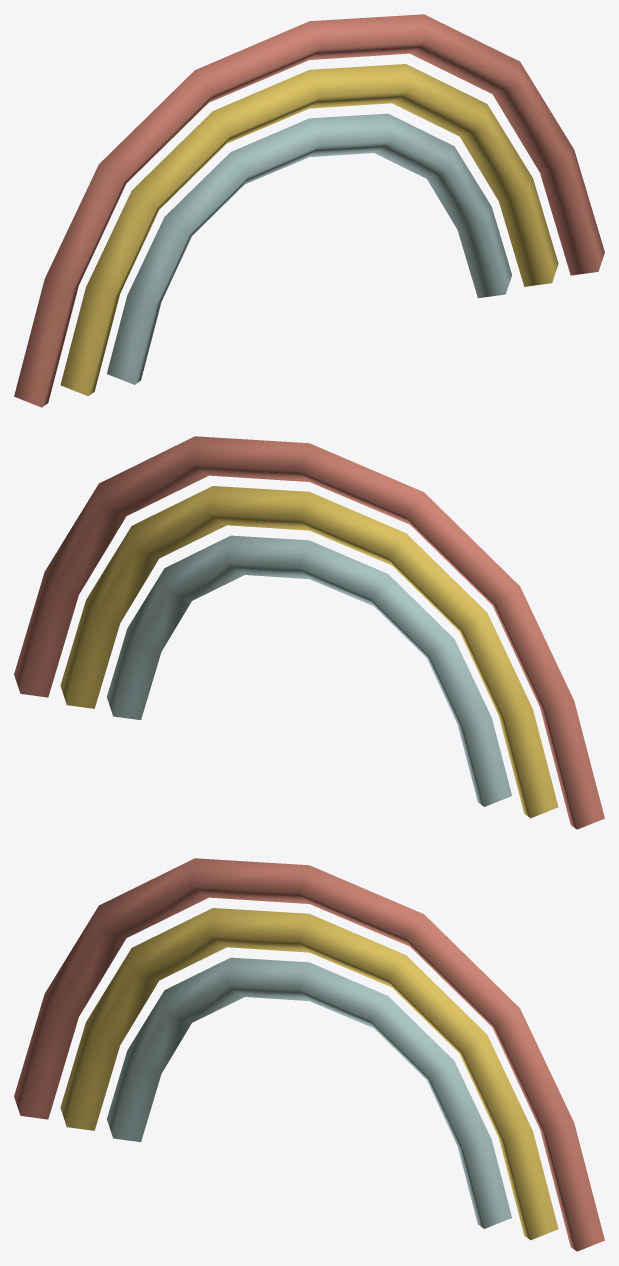
Rendered from rainbow.glb.
3 views of the same model, one above another, from view 1: azimuth 30°, elevation 25°; view 2: azimuth 150°, elevation 25°; view 3: azimuth 330°, elevation 25° (orthographic).
Visible parts, largest first — view 1: rainbow; view 2: rainbow; view 3: rainbow.
Boxes of the visible parts, x1=… form: rainbow: x1=14, y1=14, x2=604, y2=407; rainbow: x1=14, y1=436, x2=604, y2=829; rainbow: x1=14, y1=858, x2=604, y2=1251.
Size of the model in its own units: 0.4013 by 0.2064 by 0.0252.
